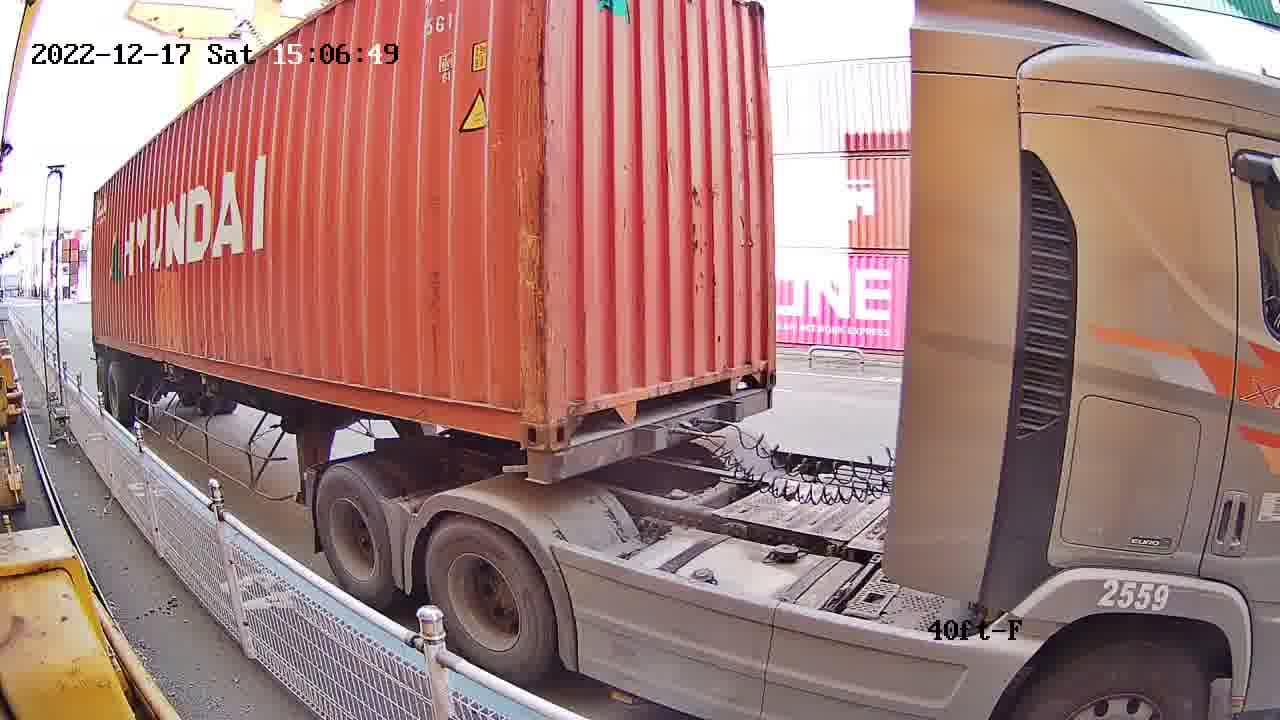Chassis: (549, 388, 772, 486)
Cone: (514, 449, 552, 485)
Hole_L: (544, 378, 603, 451)
Hole_R: (493, 380, 549, 445), (728, 338, 779, 395)
Tire: (425, 521, 551, 677), (317, 471, 395, 597)
